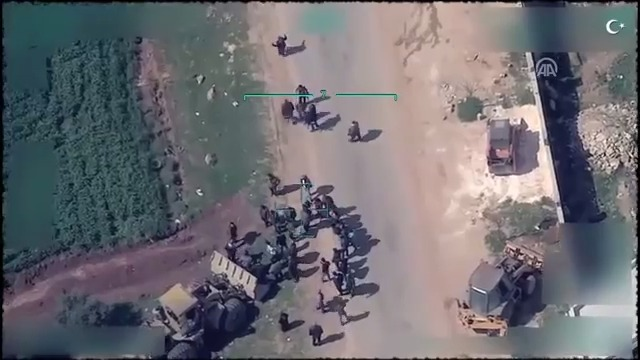arac: (459, 223, 552, 341)
insan: (270, 30, 295, 59), (308, 318, 328, 349), (264, 170, 285, 196), (279, 96, 297, 126), (317, 253, 334, 283), (228, 217, 245, 245), (346, 120, 366, 143), (315, 284, 328, 312), (276, 310, 291, 333)
